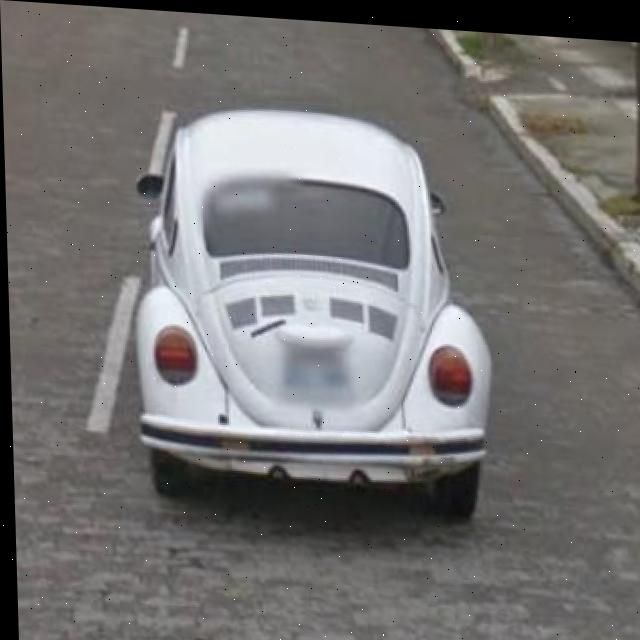vehicle: (123, 90, 492, 505)
